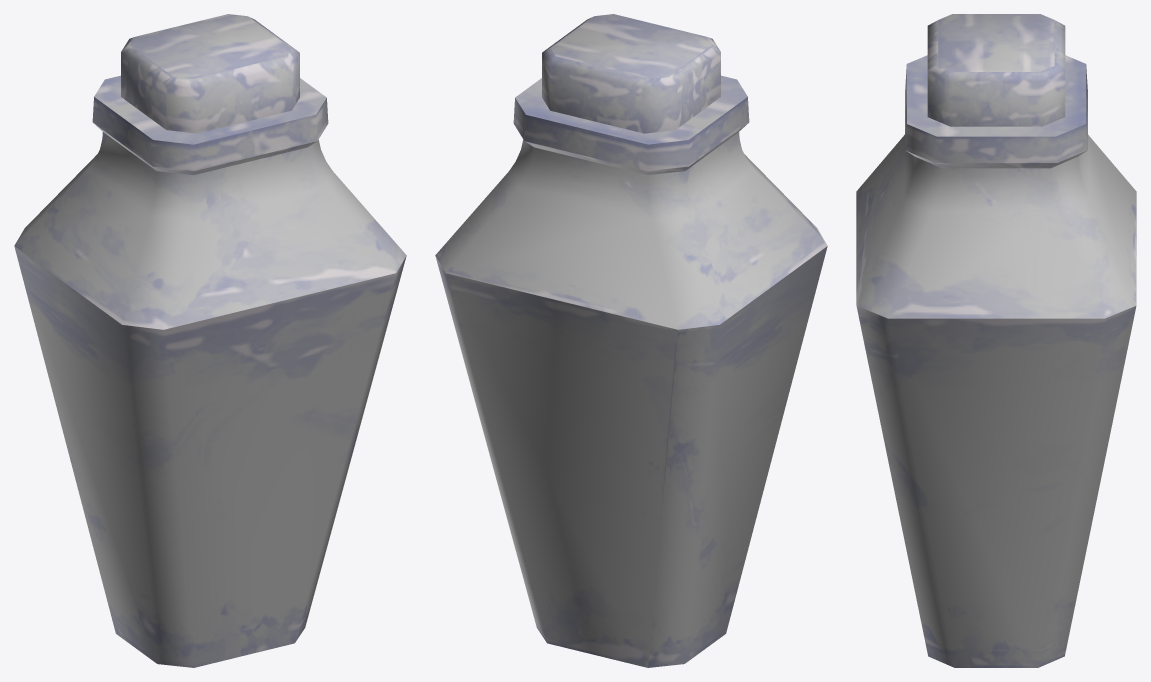
The model's file is Potion_5.fbx.
3 renders of one model, left to right at view 1: azimuth 30°, elevation 25°; view 2: azimuth 150°, elevation 25°; view 3: azimuth 270°, elevation 25°, orthographic.
Parts seen in each view (by area): view 1: Potion_5; view 2: Potion_5; view 3: Potion_5.
Part boxes in pixels (box(x1,y1,x2,y2)): Potion_5: box(14, 14, 406, 667); Potion_5: box(435, 14, 827, 667); Potion_5: box(856, 14, 1136, 667).
Bounding box in the file's own units: 11.82 × 23.19 × 10.
